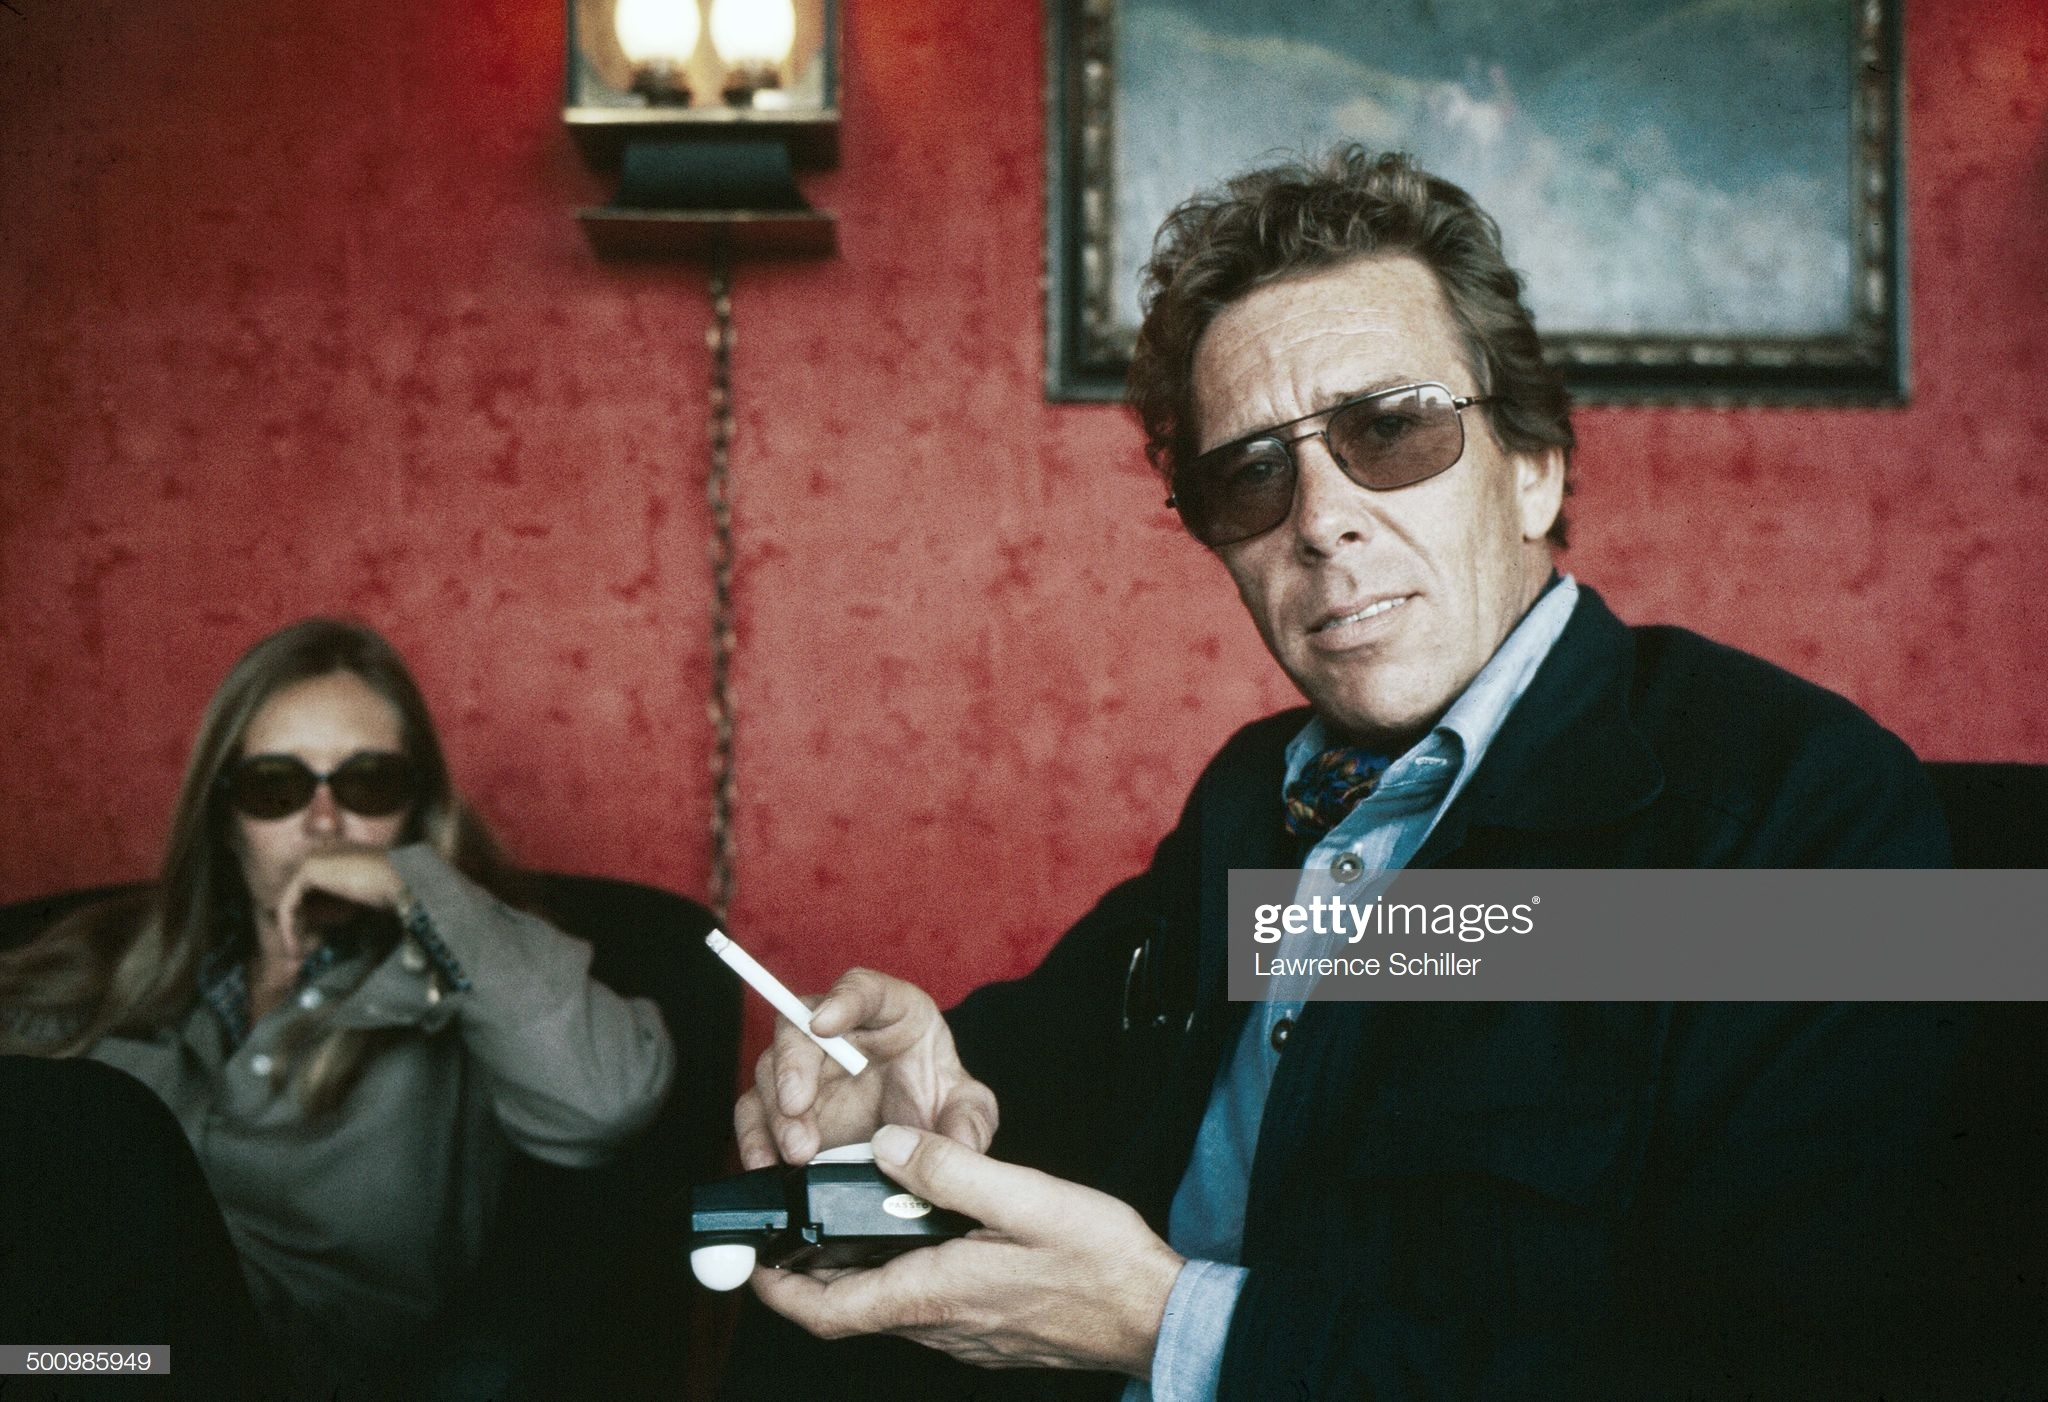sigaretta: (693, 927, 885, 1075)
